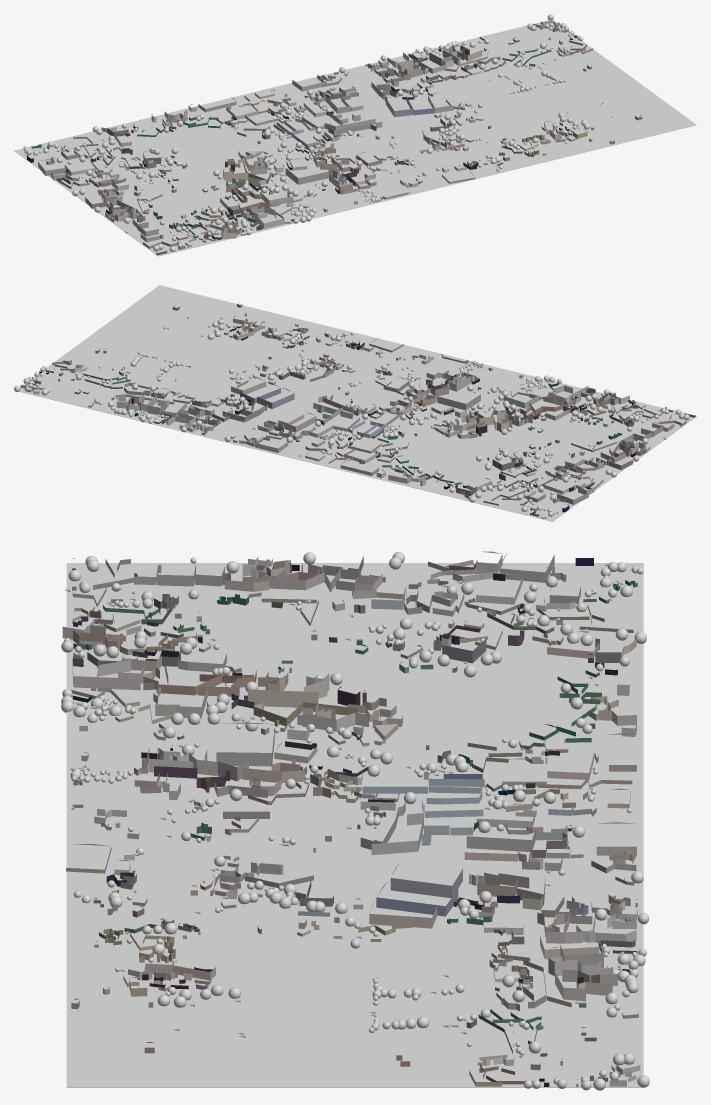
File: scene_e2855243-f8be-4225-bd1f-0cdf2b2be463.glb
The picture shows the model from 3 angles, top to bottom: view 1: azimuth 30°, elevation 25°; view 2: azimuth 150°, elevation 25°; view 3: azimuth 270°, elevation 25°; orthographic projection. The views are drawn at different scales.
Visible parts, largest first — view 1: Ground_Base; view 2: Ground_Base; view 3: Ground_Base, BLD-203, BLD-331, BLD-431, BLD-193, BLD-427, BLD-097, BLD-190, BLD-246, BLD-156.
Part boxes in pixels (x1,y1,x2,y2): Ground_Base: (14, 20, 696, 256); Ground_Base: (19, 285, 696, 521); Ground_Base: (66, 563, 643, 1087); BLD-203: (248, 680, 327, 707); BLD-331: (72, 660, 140, 690); BLD-431: (390, 864, 462, 898); BLD-193: (302, 706, 368, 731); BLD-427: (376, 881, 458, 916); BLD-097: (466, 826, 535, 851); BLD-190: (270, 564, 341, 592); BLD-246: (216, 722, 274, 766); BLD-156: (371, 813, 423, 855).
Bounding box in the file's own units: 1189 × 21.83 × 559.
